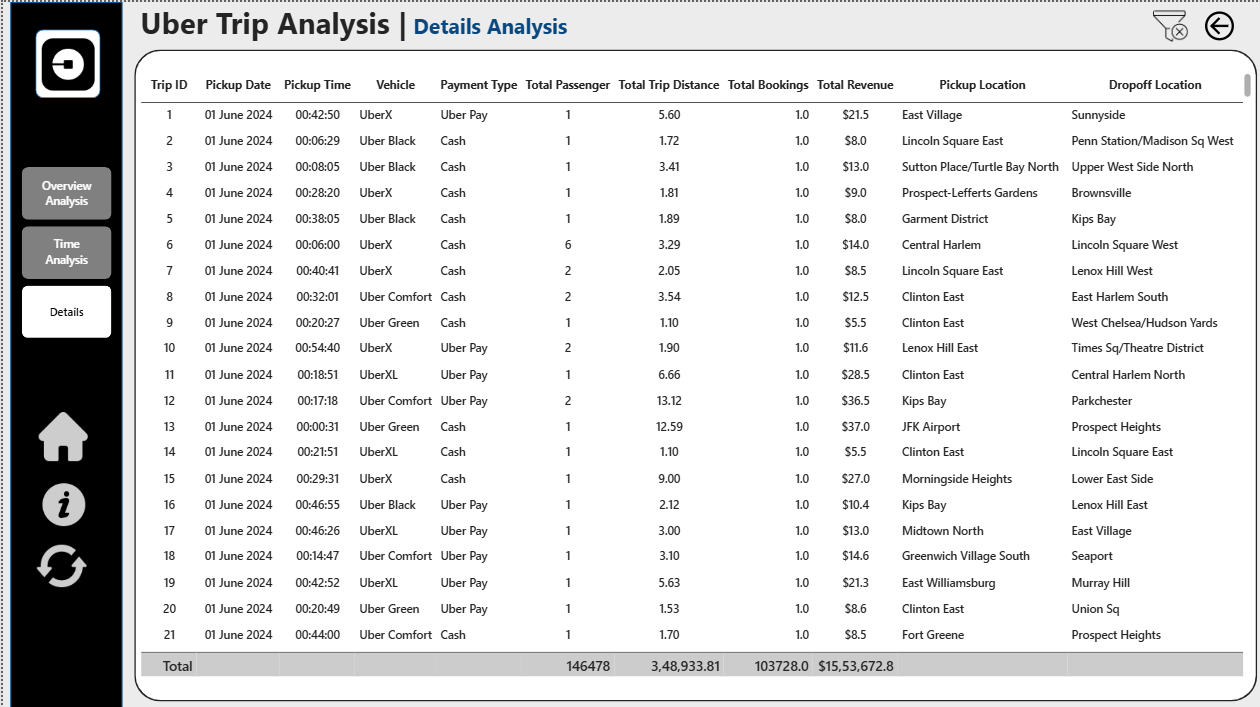

The page's visual inventory and layout, read from the dashboard file:
{"tool":"powerbi","page":{"name":"Details","canvas":[1600,900],"ordinal":2},"visuals":[{"type":"shape","box":[10.3,0,142,900.5],"z":0},{"type":"textbox","box":[173.9,0,626.3,59.6],"z":1000},{"type":"shape","box":[166,60,1426,828],"z":2000},{"type":"tableEx","fields":{"Values":["Trip Details.Trip ID","Trip Details.Pickup Date","Trip Details.Pickup Hour (H M S)","Trip Details.Vehicle","Trip Details.Payment_type","Sum(Trip Details.passenger_count)","Trip Details.Total Trip Distance Measure","Trip Details.Total Bookings","Trip Details.Total Revenue","Location Table.Location","Trip Details.Drop Location"]},"box":[158,76,1442,796],"z":3000},{"type":"actionButton","box":[1506.1,4.5,77.3,51.5],"z":4000},{"type":"image","box":[1459.4,9.4,46.9,42.2],"z":5000},{"type":"pageNavigator","box":[23.4,209.4,114.1,217.2],"z":6000},{"type":"shape","box":[41.1,34.2,82.4,87.1],"z":7000},{"type":"image","box":[48.8,34.2,66.9,88.6],"z":8000},{"type":"image","box":[43.5,520.9,66.9,62.2],"z":12002},{"type":"image","box":[33.3,684.1,82.4,63.8],"z":12003},{"type":"image","box":[38.1,611.1,77.7,54.4],"z":12004}]}

Visuals, with their boxes on the page's 1600x900 design canvas (x1, y1, x2, y2). These are canvas units, not pixel positions in the 1260x707 screenshot, which may show the page scaled, cropped or inside an application window:
shape: 10,0,152,900
textbox: 174,0,800,60
shape: 166,60,1592,888
tableEx - Trip Details.Trip ID x Trip Details.Pickup Date: 158,76,1600,872
actionButton: 1506,4,1583,56
image: 1459,9,1506,52
pageNavigator: 23,209,138,427
shape: 41,34,124,121
image: 49,34,116,123
image: 44,521,110,583
image: 33,684,116,748
image: 38,611,116,666
